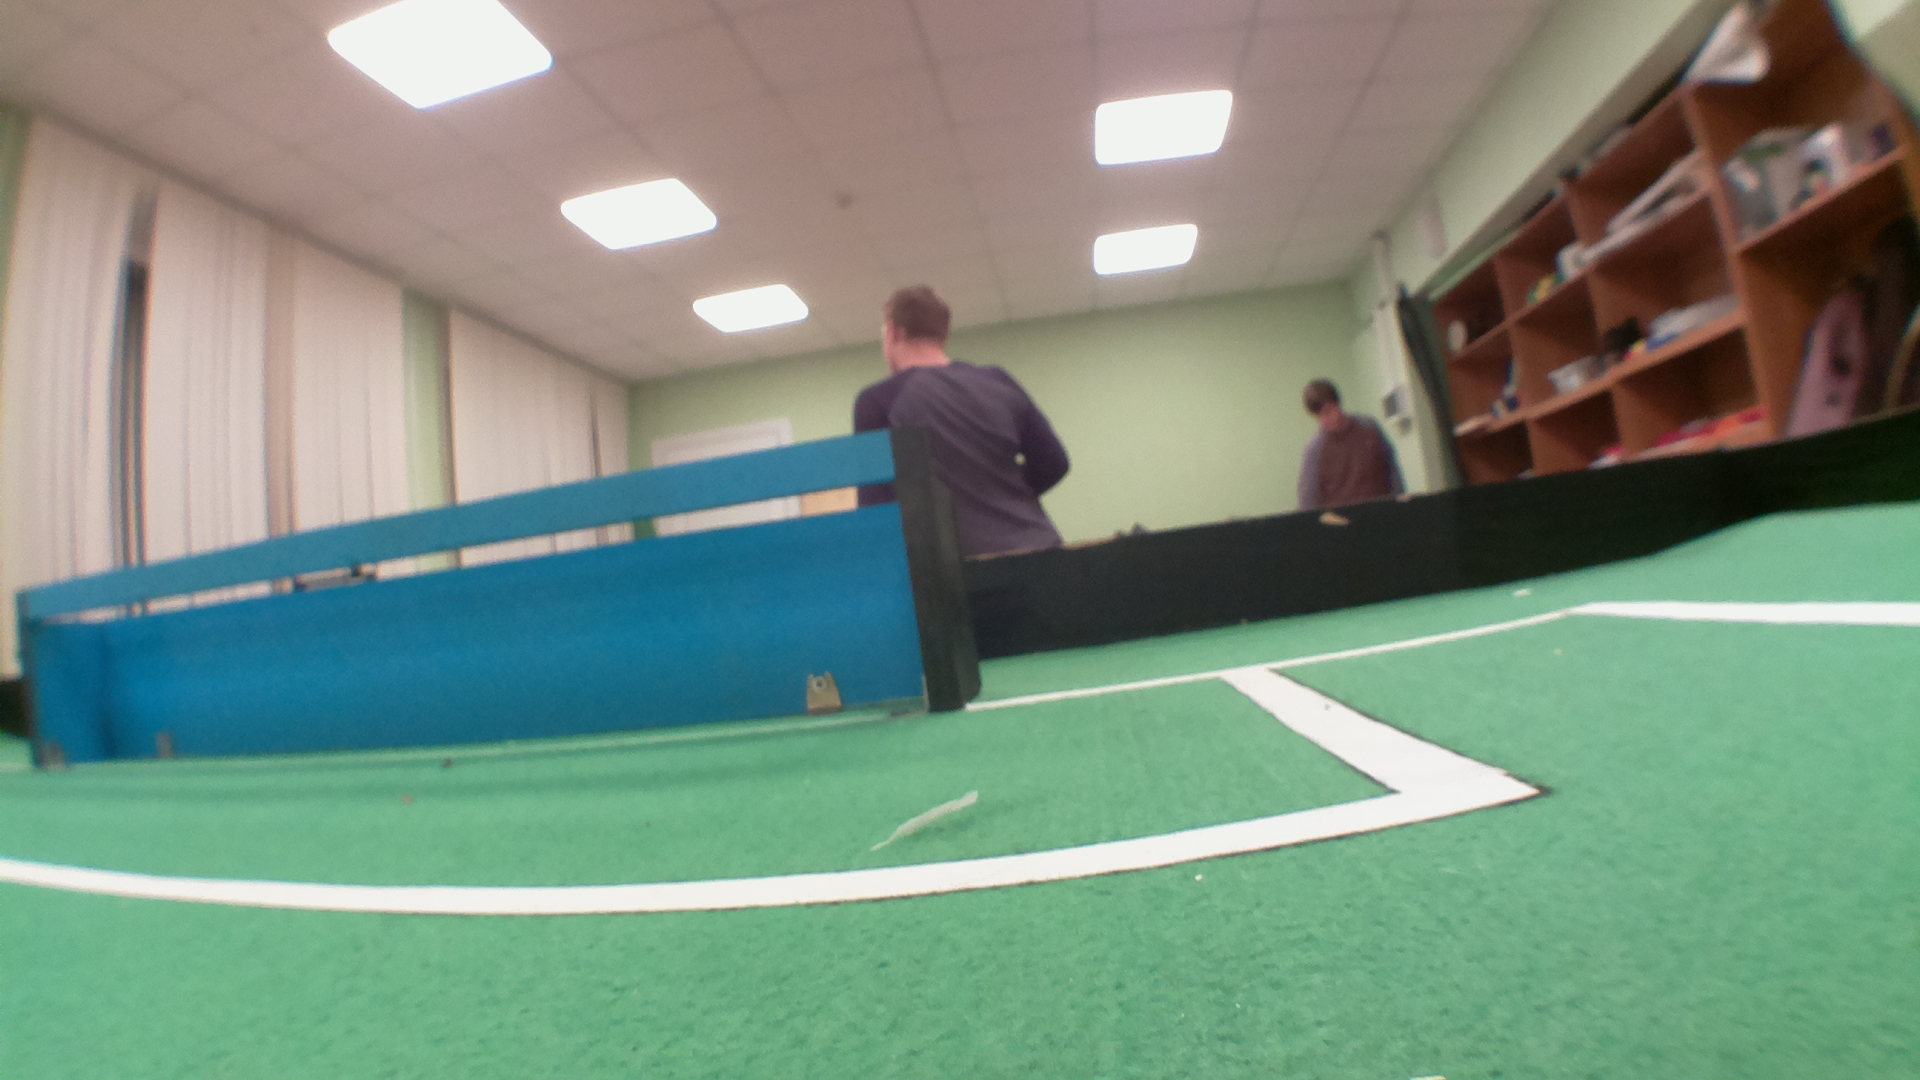BlueGoal: (30, 430, 903, 775)
